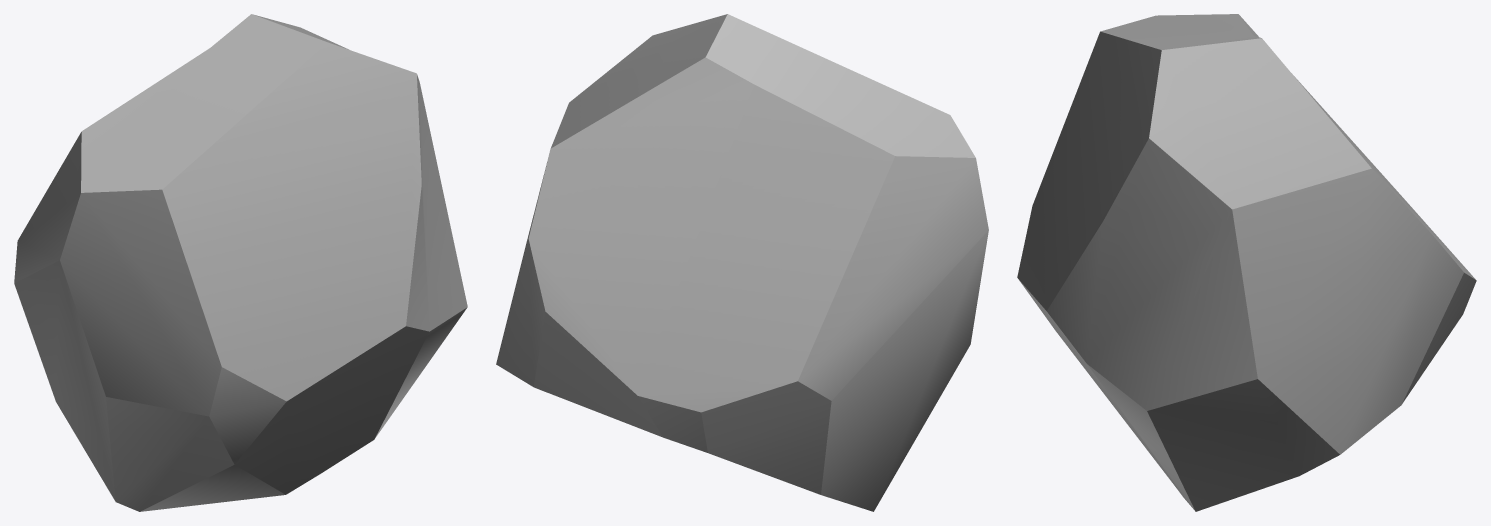
Rendered from SK_Rock_008Collider.FBX.
3 renders of one model, left to right at view 1: azimuth 30°, elevation 25°; view 2: azimuth 150°, elevation 25°; view 3: azimuth 270°, elevation 25°, orthographic. The views are drawn at different scales.
Visible parts, largest first — view 1: SK_Rock_008Collider; view 2: SK_Rock_008Collider; view 3: SK_Rock_008Collider.
Part boxes in pixels (x1,y1,x2,y2): SK_Rock_008Collider: (14, 14, 467, 511); SK_Rock_008Collider: (496, 14, 988, 511); SK_Rock_008Collider: (1017, 14, 1476, 511).
Size of the model in its own units: 121 by 122 by 112.
1 material, 1 textured.
